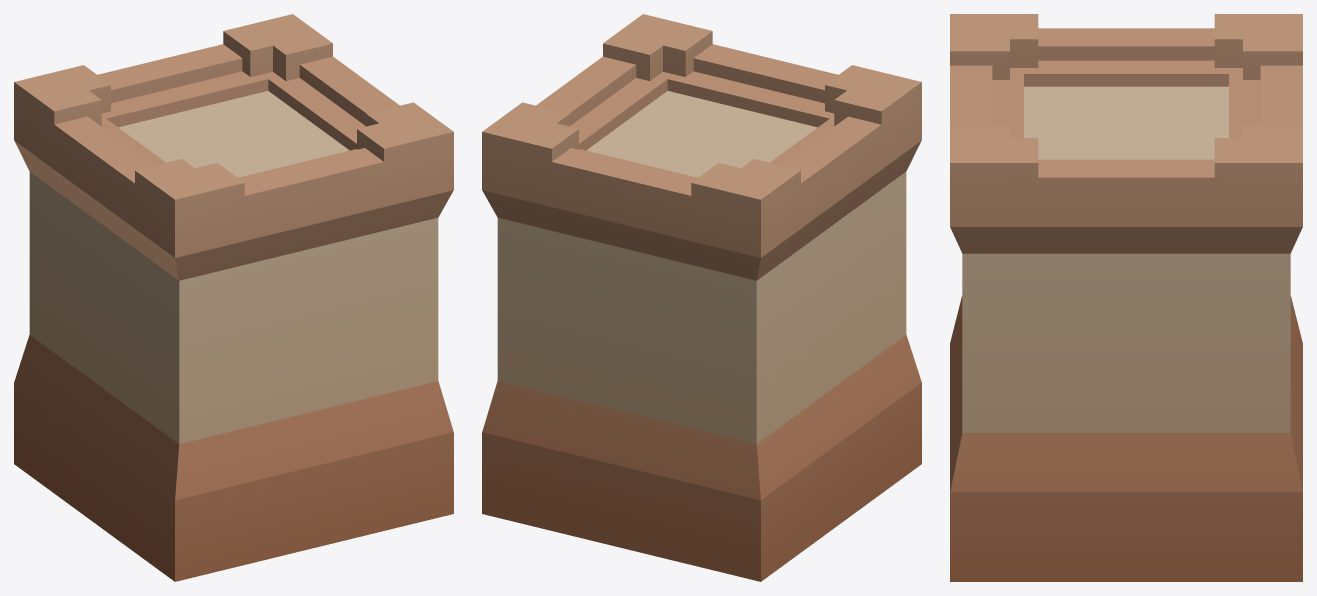
Rendered from castle-tower-square.glb.
The picture shows the model from 3 angles, left to right: view 1: azimuth 30°, elevation 25°; view 2: azimuth 150°, elevation 25°; view 3: azimuth 270°, elevation 25°; orthographic projection. The views are drawn at different scales.
Parts seen in each view (by area): view 1: tower-square; view 2: tower-square; view 3: tower-square.
Boxes of the visible parts, x1,y1,x2,y2 form: tower-square: (14,14,453,581); tower-square: (482,14,921,581); tower-square: (950,14,1302,581).
Size of the model in its own units: 1 by 1.31 by 1.
